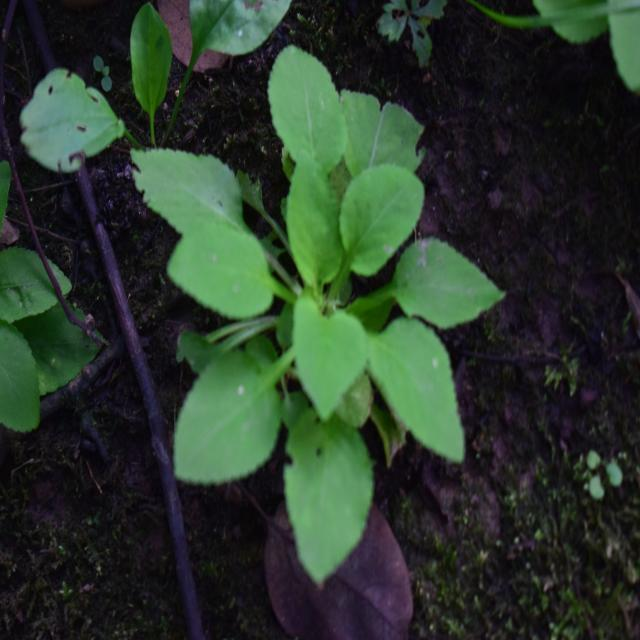Viola: (177, 75, 484, 568)
